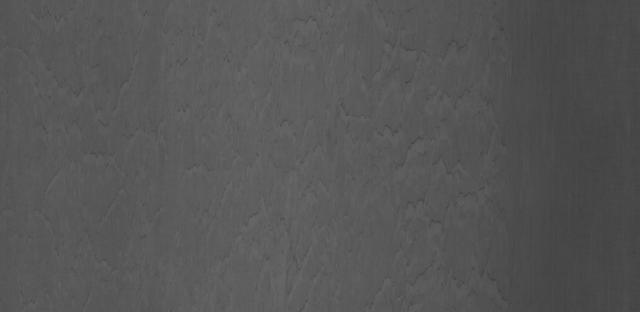silk_spot: (182, 64, 345, 226), (350, 51, 468, 180), (386, 184, 510, 282), (231, 11, 331, 47)
